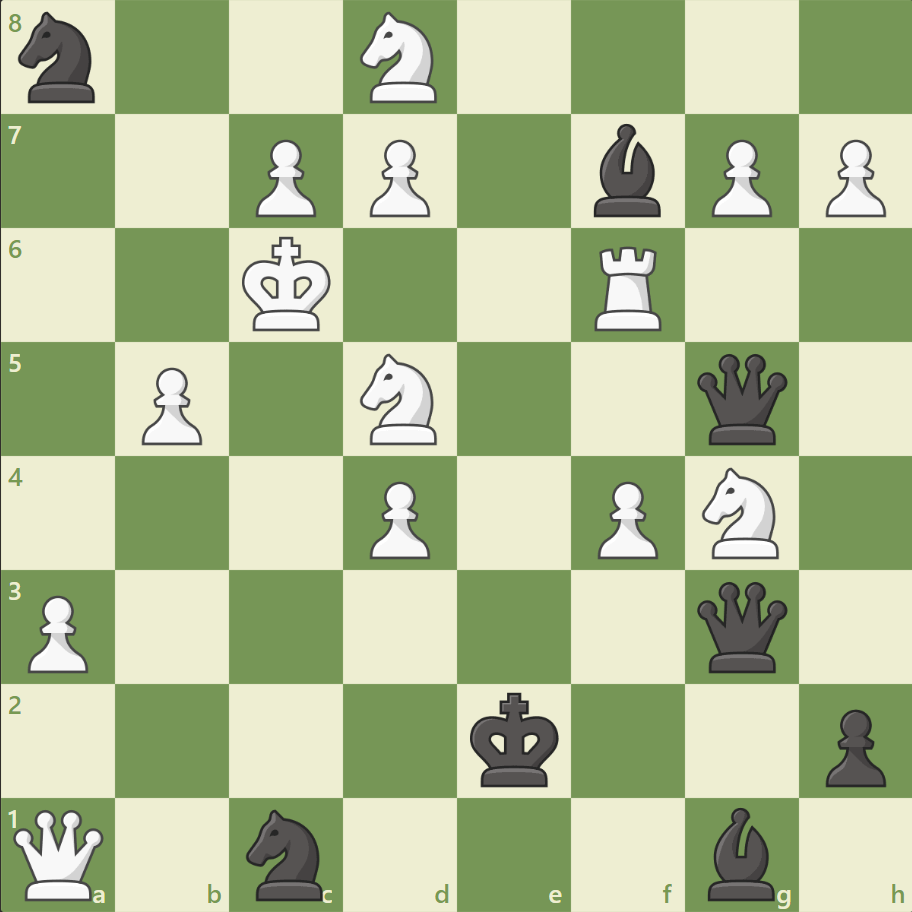K: (238, 231, 338, 339)
N: (351, 7, 449, 110), (351, 348, 449, 450), (692, 461, 789, 564)
P: (247, 132, 322, 223), (701, 132, 776, 223), (133, 359, 208, 450), (20, 586, 95, 677), (361, 132, 435, 223), (815, 132, 889, 223), (361, 473, 435, 564), (588, 473, 662, 564)
Q: (10, 804, 109, 903)
R: (587, 239, 670, 336)
b: (698, 801, 782, 904), (585, 120, 669, 222)
k: (465, 685, 565, 793)
n: (11, 7, 108, 110), (238, 802, 335, 904)
p: (815, 700, 889, 791)
q: (691, 349, 790, 449), (691, 576, 790, 676)
